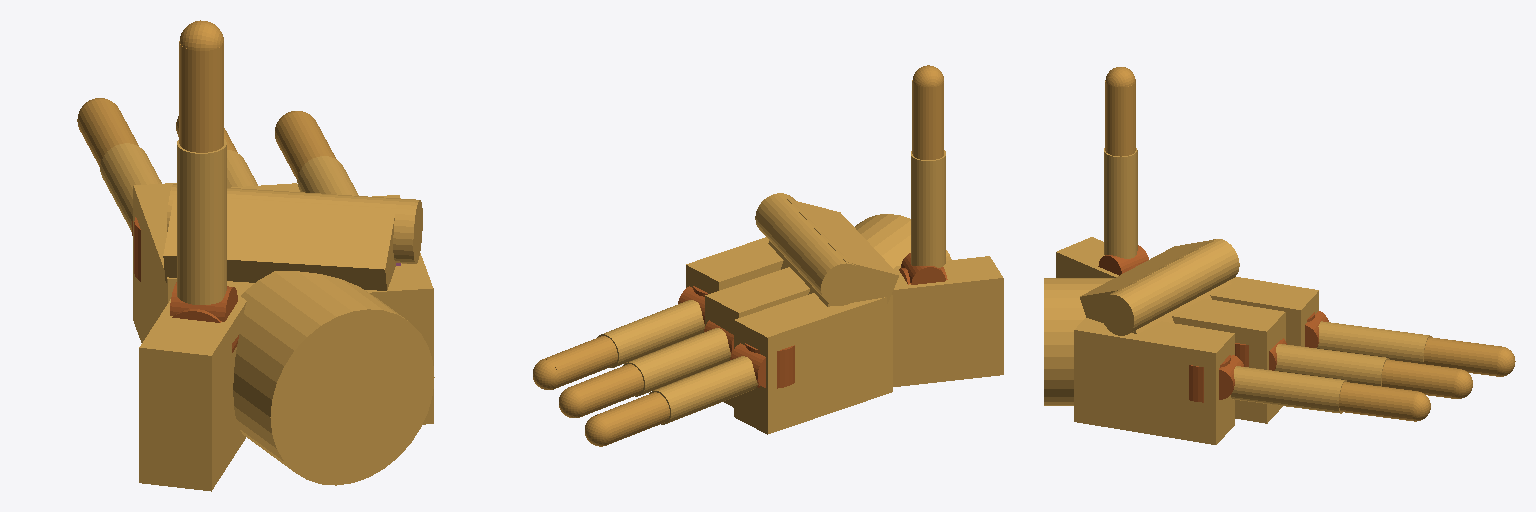
--- What the picture shows (computed from the rendered views, not written in the file) ---
The picture shows the robot from 3 angles, left to right: view 1: azimuth 30°, elevation 25°; view 2: azimuth 150°, elevation 25°; view 3: azimuth 270°, elevation 25°; orthographic projection.
Model sandia_hand_left with 34 links and 33 joints (12 revolute, 21 fixed), rooted at l_hand, posed all joints at 0.
Visible links, largest first — view 1: left_palm, left_f3_1, left_f3_2, left_f0_1, left_f0_2, left_f2_2, left_f2_1, left_f3_0, left_f1_1; view 2: left_palm, left_f3_1, left_f0_1, left_f2_1, left_f1_1, left_f3_2, left_f0_2, left_f1_2, left_f2_2, left_f0_0, left_f3_0; view 3: left_palm, left_f2_1, left_f3_1, left_f1_1, left_f0_1, left_f2_2, left_f3_2, left_f0_2, left_f1_2, left_f2_0, left_f3_0.
Link boxes in pixels (x1,y1,x2,y2): left_palm: (133,183,434,491); left_f3_1: (177,139,226,304); left_f3_2: (179,20,223,152); left_f0_1: (100,143,161,231); left_f0_2: (77,98,138,166); left_f2_2: (275,111,336,179); left_f2_1: (297,156,358,195); left_f3_0: (170,282,238,352); left_f1_1: (227,150,257,187); left_palm: (686,193,1003,434); left_f3_1: (911,150,945,267); left_f0_1: (649,356,757,424); left_f2_1: (597,300,704,367); left_f1_1: (623,328,730,396); left_f3_2: (912,65,943,159); left_f0_2: (585,392,669,446); left_f1_2: (559,364,643,417); left_f2_2: (533,336,617,389); left_f0_0: (730,343,794,388); left_f3_0: (899,253,947,284); left_palm: (1044,237,1318,444); left_f2_1: (1231,366,1346,413); left_f3_1: (1104,148,1137,258); left_f1_1: (1274,344,1389,386); left_f0_1: (1317,321,1431,363); left_f2_2: (1339,382,1430,421); left_f3_2: (1105,67,1135,156); left_f0_2: (1424,337,1515,376); left_f1_2: (1382,360,1472,398); left_f2_0: (1189,355,1243,402); left_f3_0: (1098,245,1148,275).
Bounding box of the posed robot: 0.1924 × 0.2782 × 0.196 m (x, y, z).
Geometry: primitives only (box / cylinder / sphere), no mesh files.

robot.urdf — sandia_hand_left:
<?xml version="1.0" ?>
<!-- copy from atlas_sandia_hand -->
<robot name="sandia_hand_left" xmlns:xacro="http://www.ros.org/wiki/xacro">

  <link name="left_palm">
    <origin rpy="0 0 0" xyz="0 0 0"/>
    <inertial>
      <mass value="1.303"/>
      <origin xyz="0 0 0"/>
      <!-- solid sphere with 5cm radius -->
      <inertia ixx="0.001303" ixy="0" ixz="0" iyy="0.001303" iyz="0" izz="0.001303"/>
    </inertial>
    <!-- begin simple shape approximation of palm -->
    <collision group="default">
      <origin rpy="0 1.57079632679 0.9" xyz="0.069 -0.016 0.038"/>
      <geometry>
        <cylinder length="0.100" radius="0.013"/>
      </geometry>
    </collision>
    <collision group="other">
      <origin rpy="-0.41 0 0.9" xyz="0.064 -0.008 0.021"/>
      <geometry>
        <box size="0.09 .035 .05"/>
      </geometry>
    </collision>
    <collision group="other">
      <origin rpy="0 1.57079632679 0" xyz="0.02 0 -0.005"/>
      <geometry>
        <cylinder length="0.05" radius="0.038"/>
      </geometry>
    </collision>
    <collision group="other">
      <origin rpy="0 0 -0.37" xyz="0.11 0.01 -0.005"/>
      <geometry>
        <box size="0.09 .03 .06"/>
      </geometry>
    </collision>
    <collision group="other">
      <origin rpy="0 0 -0.37" xyz="0.09 -0.02 -0.005"/>
      <geometry>
        <box size="0.09 .03 .06"/>
      </geometry>
    </collision>
    <collision group="other">
      <origin rpy="0 0 -0.37" xyz="0.060 -0.05 -0.005"/>
      <geometry>
        <box size="0.09 .03 .06"/>
      </geometry>
    </collision>
    <collision group="other">
      <origin rpy="0 0 -0.79" xyz="0.044 0.04 -0.005"/>
      <geometry>
        <box size="0.09 .03 .06"/>
      </geometry>
    </collision>
    <!--   end simple shape approximation of palm -->
    <!-- begin visual shape approximation of palm -->
    <visual>
      <origin rpy="0 1.57079632679 0.9" xyz="0.069 -0.016 0.038"/>
      <geometry>
        <cylinder length="0.100" radius="0.013"/>
      </geometry>
      <material name="left_sandia_hand_skin">
        <color rgba="0.835 0.655 0.345 1.0"/>
      </material>
    </visual>
    <visual>
      <origin rpy="-0.41 0 0.9" xyz="0.064 -0.008 0.021"/>
      <geometry>
        <box size="0.09 .035 .05"/>
      </geometry>
      <material name="left_sandia_hand_skin">
        <color rgba="0.835 0.655 0.345 1.0"/>
      </material>
    </visual>
    <visual>
      <origin rpy="0 1.57079632679 0" xyz="0.02 0 -0.005"/>
      <geometry>
        <cylinder length="0.05" radius="0.038"/>
      </geometry>
      <material name="left_sandia_hand_skin">
        <color rgba="0.835 0.655 0.345 1.0"/>
      </material>
    </visual>
    <visual>
      <origin rpy="0 0 -0.37" xyz="0.11 0.01 -0.005"/>
      <geometry>
        <box size="0.09 .03 .06"/>
      </geometry>
      <material name="left_sandia_hand_skin">
        <color rgba="0.835 0.655 0.345 1.0"/>
      </material>
    </visual>
    <visual>
      <origin rpy="0 0 -0.37" xyz="0.09 -0.02 -0.005"/>
      <geometry>
        <box size="0.09 .03 .06"/>
      </geometry>
      <material name="left_sandia_hand_skin">
        <color rgba="0.835 0.655 0.345 1.0"/>
      </material>
    </visual>
    <visual>
      <origin rpy="0 0 -0.37" xyz="0.060 -0.05 -0.005"/>
      <geometry>
        <box size="0.09 .03 .06"/>
      </geometry>
      <material name="left_sandia_hand_skin">
        <color rgba="0.835 0.655 0.345 1.0"/>
      </material>
    </visual>
    <visual>
      <origin rpy="0 0 -0.79" xyz="0.044 0.04 -0.005"/>
      <geometry>
        <box size="0.09 .03 .06"/>
      </geometry>
      <material name="left_sandia_hand_skin">
        <color rgba="0.835 0.655 0.345 1.0"/>
      </material>
    </visual>
    <!--   end visual shape approximation of palm -->
    <!-- begin collision mesh of f2 ->
      <collision group="default">
        <origin xyz="0 0 0" rpy="0 0 0"/>
        <geometry>
          <mesh filename="package://sandia_hand_description/meshes/palm.stl"/>
        </geometry>
      </collision>
      <!-   end collision mesh of f2 -->
    <!-- begin visual mesh of f2    ->
      <visual>
        <origin xyz="0 0 0" rpy="0 0 0"/>
        <geometry>
          <mesh filename="package://sandia_hand_description/meshes/palm.stl"/>
        </geometry>
        <material name="${side}_sandia_hand_skin">
          <color rgba="0.835 0.655 0.345 1.0"/>
        </material>
      </visual>
      <!-   end visual mesh of f2 -->
  </link>
  <link name="l_hand" />
  <joint name="left_sandia_hand_joint" type="fixed">
    <parent link="l_hand"/>
    <child link="left_palm"/>
    <origin xyz="0.00179  0.13516 0.01176" rpy="0 0  1.57079"/>
  </joint>
  <link name="left_f0_base">
    <origin rpy="0 0 0" xyz="0 0 0"/>
    <inertial>
      <!-- total mass is 2.303 kg, palm is about 1.303 kg, distribute the rest into _base -->
      <mass value="0.250"/>
      <!-- (2.303 - 1.303) / 4 -->
      <origin xyz="0 0 0"/>
      <!-- model as sphere with radius of 1cm -->
      <inertia ixx="0.00001" ixy="0" ixz="0" iyy="0.00001" iyz="0" izz="0.00001"/>
    </inertial>
  </link>
  <link name="left_f0_fixed_accel">
    <origin rpy="0 0 0" xyz="0 0 0"/>
    <inertial>
      <mass value="0.01"/>
      <origin xyz="0 0 0"/>
      <inertia ixx="0.000001" ixy="0" ixz="0" iyy="0.000001" iyz="0" izz="0.000001"/>
    </inertial>
  </link>
  <link name="left_f0_0">
    <origin rpy="0 0 0" xyz="0 0 0"/>
    <inertial>
      <mass value="0.106"/>
      <!-- F1 -->
      <origin xyz="0 0 0"/>
      <!-- solid cylinder -->
      <inertia ixx="0.000011925" ixy="0" ixz="0" iyy="0.00011505" iyz="0" izz="0.00011505"/>
    </inertial>
    <!-- begin simple shape approximation of f0 -->
    <collision group="default">
      <origin rpy="0 0 0" xyz="0 0 0.003"/>
      <geometry>
        <cylinder length="0.023" radius="0.015"/>
      </geometry>
    </collision>
    <collision group="other">
      <origin rpy="1.57079632679 0 0" xyz="0.011 0 0.003"/>
      <geometry>
        <cylinder length="0.023" radius="0.01"/>
      </geometry>
    </collision>
    <!--   end simple shape approximation of f0 -->
    <!-- begin visual shape approximation of f0 -->
    <visual>
      <origin rpy="0 0 0" xyz="0 0 0.003"/>
      <geometry>
        <cylinder length="0.023" radius="0.015"/>
      </geometry>
      <material name="left_sandia_hand_skin_suntan">
        <color rgba="0.7 0.4 0.2 1.0"/>
      </material>
    </visual>
    <visual>
      <origin rpy="1.57079632679 0 0" xyz="0.011 0 0.003"/>
      <geometry>
        <cylinder length="0.023" radius="0.01"/>
      </geometry>
      <material name="left_sandia_hand_skin_suntan">
        <color rgba="0.7 0.4 0.2 1.0"/>
      </material>
    </visual>
    <!--   end visual shape approximation of f0 -->
    <!-- begin collision mesh of f0 ->
      <collision group="default">
        <origin xyz="0 0 0" rpy="0 0 0"/>
        <geometry>
          <mesh filename="package://sandia_hand_description/meshes/f0.stl"/>
        </geometry>
      </collision>
      <!-   end collision mesh of f0 -->
    <!-- begin visual mesh of f0 ->
      <visual>
        <origin xyz="0 0 0" rpy="0 0 0"/>
        <geometry>
          <mesh filename="package://sandia_hand_description/meshes/f0.stl"/>
        </geometry>
        <material name="${side}_sandia_hand_skin_suntan">
          <color rgba="0.7 0.4 0.2 1.0"/>
        </material>
      </visual>
      <!-   end visual mesh of f0 -->
  </link>
  <link name="left_f0_1">
    <origin rpy="0 0 0" xyz="0 0 0"/>
    <inertial>
      <mass value="0.033"/>
      <!-- F2 -->
      <origin xyz="0 0 0"/>
      <!-- solid cylinder -->
      <inertia ixx="0.00000165" ixy="0" ixz="0" iyy="0.00001316975" iyz="0" izz="0.00001316975"/>
    </inertial>
    <!-- begin simple shape approximation of f1 -->
    <collision group="default">
      <origin rpy="0 1.57079632679 0" xyz="0.024 0 0"/>
      <geometry>
        <cylinder length="0.067" radius="0.01"/>
      </geometry>
    </collision>
    <!--   end simple shape approximation of f1 -->
    <!-- begin visual shape approximation of f1 -->
    <visual>
      <origin rpy="0 1.57079632679 0" xyz="0.024 0 0"/>
      <geometry>
        <cylinder length="0.067" radius="0.01"/>
      </geometry>
      <material name="left_sandia_hand_skin">
        <color rgba="0.835 0.655 0.345 1.0"/>
      </material>
    </visual>
    <!--   end visual shape approximation of f1 -->
    <!-- begin collision mesh of f1 ->
      <collision group="default">
        <origin xyz="0 0 0" rpy="0 0 0"/>
        <geometry>
          <mesh filename="package://sandia_hand_description/meshes/f1.stl"/>
        </geometry>
      </collision>
      <!-   end collision mesh of f1 -->
    <!-- begin visual mesh of f1 ->
      <visual>
        <origin xyz="0 0 0" rpy="0 0 0"/>
        <geometry>
          <mesh filename="package://sandia_hand_description/meshes/f1.stl"/>
        </geometry>
        <material name="${side}_sandia_hand_skin">
          <color rgba="0.835 0.655 0.345 1.0"/>
        </material>
      </visual>
      <!-   end visual mesh of f1 -->
  </link>
  <link name="left_f0_1_accel">
    <origin rpy="0 0 0" xyz="0 0 0"/>
    <inertial>
      <mass value="0.01"/>
      <origin xyz="0 0 0"/>
      <inertia ixx="0.000001" ixy="0" ixz="0" iyy="0.000001" iyz="0" izz="0.000001"/>
    </inertial>
  </link>
  <link name="left_f0_2">
    <origin rpy="0 0 0" xyz="0 0 0"/>
    <inertial>
      <mass value="0.033"/>
      <!-- F3 -->
      <origin xyz="0 0 0"/>
      <!-- solid cylinder -->
      <inertia ixx="0.0000013365" ixy="0" ixz="0" iyy="0.000009603" iyz="0" izz="0.000009603"/>
    </inertial>
    <!-- begin simple shape approximation of f2 -->
    <collision group="default">
      <origin rpy="0 1.57079632679 0" xyz="0.024 0 0"/>
      <geometry>
        <cylinder length="0.057" radius="0.009"/>
      </geometry>
    </collision>
    <collision group="other">
      <origin rpy="0 0 0" xyz="0.052 0 0"/>
      <geometry>
        <sphere radius="0.009"/>
      </geometry>
    </collision>
    <!--   end simple shape approximation of f2 -->
    <!-- begin visual shape approximation of f2 -->
    <visual>
      <origin rpy="0 1.57079632679 0" xyz="0.024 0 0"/>
      <geometry>
        <cylinder length="0.057" radius="0.009"/>
      </geometry>
      <material name="left_sandia_hand_skin_suntan">
        <color rgba="0.8 0.6 0.3 1.0"/>
      </material>
    </visual>
    <visual>
      <origin rpy="0 0 0" xyz="0.052 0 0"/>
      <geometry>
        <sphere radius="0.009"/>
      </geometry>
      <material name="left_sandia_hand_skin_suntan">
        <color rgba="0.8 0.6 0.3 1.0"/>
      </material>
    </visual>
    <!-- begin collision mesh of f2    ->
      <collision group="default">
        <origin xyz="0 0 0" rpy="0 0 0"/>
        <geometry>
          <mesh filename="package://sandia_hand_description/meshes/f2.stl"/>
        </geometry>
      </collision>
      <!-   end collision mesh of f2 -->
    <!-- begin visual mesh of f2    ->
      <visual>
        <origin xyz="0 0 0" rpy="0 0 0"/>
        <geometry>
          <mesh filename="package://sandia_hand_description/meshes/f2.stl"/>
        </geometry>
        <material name="${side}_sandia_hand_skin_suntan">
          <color rgba="0.8 0.6 0.3 1.0"/>
        </material>
      </visual>
      <!-   end visual mesh of f2 -->
  </link>
  <link name="left_f0_2_accel">
    <origin rpy="0 0 0" xyz="0 0 0"/>
    <inertial>
      <mass value="0.01"/>
      <origin xyz="0 0 0"/>
      <inertia ixx="0.000001" ixy="0" ixz="0" iyy="0.000001" iyz="0" izz="0.000001"/>
    </inertial>
  </link>
  <joint name="left_f0_base" type="fixed">
    <parent link="left_palm"/>
    <child link="left_f0_base"/>
    <origin rpy="0 0 -0.3" xyz="0.14 0.0 0"/>
  </joint>
  <joint name="left_f0_j0" type="revolute">
    <axis xyz="0 0 -1"/>
    <parent link="left_f0_base"/>
    <child link="left_f0_0"/>
    <limit effort="11" lower="-1.57079632679" upper="1.57079632679" velocity="24"/>
    <safety_controller k_position="1000.0" k_velocity="1000.0" soft_lower_limit="-11.57079" soft_upper_limit="11.57079"/>
    <dynamics damping="1.0"/>
    <origin rpy="0 0 0" xyz="0 0 0"/>
  </joint>
  <joint name="left_f0_j1" type="revolute">
    <axis xyz="0 0 1"/>
    <parent link="left_f0_0"/>
    <child link="left_f0_1"/>
    <limit effort="28" lower="-1.57079632679" upper="1.57079632679" velocity="24"/>
    <safety_controller k_position="1000.0" k_velocity="1000.0" soft_lower_limit="-11.57079" soft_upper_limit="11.57079"/>
    <dynamics damping="1.0"/>
    <origin rpy="1.57079632679 0 0" xyz="0.028 0 0"/>
  </joint>
  <joint name="left_f0_j2" type="revolute">
    <axis xyz="0 0 1"/>
    <parent link="left_f0_1"/>
    <child link="left_f0_2"/>
    <origin rpy="0 0 0" xyz="0.05 0 0"/>
    <safety_controller k_position="1000.0" k_velocity="1000.0" soft_lower_limit="-11.57079" soft_upper_limit="11.57079"/>
    <dynamics damping="1.0"/>
    <limit effort="28" lower="-1.57079632679" upper="1.57079632679" velocity="24"/>
  </joint>
  <joint name="left_f0_fixed_accel" type="fixed">
    <parent link="left_f0_base"/>
    <child link="left_f0_fixed_accel"/>
    <origin rpy="0 0 0" xyz="-0.05 0 0"/>
  </joint>
  <joint name="left_f0_1_accel" type="fixed">
    <parent link="left_f0_1"/>
    <child link="left_f0_1_accel"/>
    <origin rpy="-1.57079632679 0 0" xyz="0.03 0 0"/>
  </joint>
  <joint name="left_f0_2_accel" type="fixed">
    <parent link="left_f0_2"/>
    <child link="left_f0_2_accel"/>
    <origin rpy="-1.57079632679 0 0" xyz="0.04 0 0"/>
  </joint>
  <transmission name="left_f0_j0" type="pr2_mechanism_model/SimpleTransmission">
    <joint name="left_f0_j0"/>
    <actuator name="left_f0_j0_motor"/>
    <mechanicalReduction>1</mechanicalReduction>
  </transmission>
  <transmission name="left_f0_j1" type="pr2_mechanism_model/SimpleTransmission">
    <joint name="left_f0_j1"/>
    <actuator name="left_f0_j1_motor"/>
    <mechanicalReduction>1</mechanicalReduction>
  </transmission>
  <transmission name="left_f0_j2" type="pr2_mechanism_model/SimpleTransmission">
    <joint name="left_f0_j2"/>
    <actuator name="left_f0_j2_motor"/>
    <mechanicalReduction>1</mechanicalReduction>
  </transmission>
  <gazebo reference="left_f0_base">
    <mu1>1.1</mu1>
    <mu2>1.1</mu2>
    <kp>1000000.0</kp>
    <kd>10.0</kd>
    <maxVel>0.1</maxVel>
    <minDepth>0.00</minDepth>
    <maxContacts>1</maxContacts>
    <material>Gazebo/FlatBlack</material>
  </gazebo>
  <gazebo reference="left_f0_0">
    <mu1>1.1</mu1>
    <mu2>1.1</mu2>
    <kp>1000000.0</kp>
    <kd>10.0</kd>
    <maxVel>0.1</maxVel>
    <minDepth>0.00</minDepth>
    <maxContacts>1</maxContacts>
    <material>Gazebo/FlatBlack</material>
  </gazebo>
  <gazebo reference="left_f0_1">
    <mu1>1.1</mu1>
    <mu2>1.1</mu2>
    <kp>1000000.0</kp>
    <kd>10.0</kd>
    <maxVel>0.1</maxVel>
    <minDepth>0.00</minDepth>
    <maxContacts>1</maxContacts>
    <material>Gazebo/FlatBlack</material>
  </gazebo>
  <gazebo reference="left_f0_2">
    <mu1>1.1</mu1>
    <mu2>1.1</mu2>
    <kp>1000000.0</kp>
    <kd>10.0</kd>
    <maxVel>0.1</maxVel>
    <minDepth>0.00</minDepth>
    <maxContacts>1</maxContacts>
    <material>Gazebo/FlatBlack</material>
  </gazebo>
  <gazebo reference="left_f0_j0">
    <cfmDamping>1</cfmDamping>
  </gazebo>
  <gazebo reference="left_f0_j1">
    <cfmDamping>1</cfmDamping>
  </gazebo>
  <gazebo reference="left_f0_j2">
    <cfmDamping>1</cfmDamping>
  </gazebo>
  <link name="left_f1_base">
    <origin rpy="0 0 0" xyz="0 0 0"/>
    <inertial>
      <!-- total mass is 2.303 kg, palm is about 1.303 kg, distribute the rest into _base -->
      <mass value="0.250"/>
      <!-- (2.303 - 1.303) / 4 -->
      <origin xyz="0 0 0"/>
      <!-- model as sphere with radius of 1cm -->
      <inertia ixx="0.00001" ixy="0" ixz="0" iyy="0.00001" iyz="0" izz="0.00001"/>
    </inertial>
  </link>
  <link name="left_f1_fixed_accel">
    <origin rpy="0 0 0" xyz="0 0 0"/>
    <inertial>
      <mass value="0.01"/>
      <origin xyz="0 0 0"/>
      <inertia ixx="0.000001" ixy="0" ixz="0" iyy="0.000001" iyz="0" izz="0.000001"/>
    </inertial>
  </link>
  <link name="left_f1_0">
    <origin rpy="0 0 0" xyz="0 0 0"/>
    <inertial>
      <mass value="0.106"/>
      <!-- F1 -->
      <origin xyz="0 0 0"/>
      <!-- solid cylinder -->
      <inertia ixx="0.000011925" ixy="0" ixz="0" iyy="0.00011505" iyz="0" izz="0.00011505"/>
    </inertial>
    <!-- begin simple shape approximation of f0 -->
    <collision group="default">
      <origin rpy="0 0 0" xyz="0 0 0.003"/>
      <geometry>
        <cylinder length="0.023" radius="0.015"/>
      </geometry>
    </collision>
    <collision group="other">
      <origin rpy="1.57079632679 0 0" xyz="0.011 0 0.003"/>
      <geometry>
        <cylinder length="0.023" radius="0.01"/>
      </geometry>
    </collision>
    <!--   end simple shape approximation of f0 -->
    <!-- begin visual shape approximation of f0 -->
    <visual>
      <origin rpy="0 0 0" xyz="0 0 0.003"/>
      <geometry>
        <cylinder length="0.023" radius="0.015"/>
      </geometry>
      <material name="left_sandia_hand_skin_suntan">
        <color rgba="0.7 0.4 0.2 1.0"/>
      </material>
    </visual>
    <visual>
      <origin rpy="1.57079632679 0 0" xyz="0.011 0 0.003"/>
      <geometry>
        <cylinder length="0.023" radius="0.01"/>
      </geometry>
      <material name="left_sandia_hand_skin_suntan">
        <color rgba="0.7 0.4 0.2 1.0"/>
      </material>
    </visual>
    <!--   end visual shape approximation of f0 -->
    <!-- begin collision mesh of f0 ->
      <collision group="default">
        <origin xyz="0 0 0" rpy="0 0 0"/>
        <geometry>
          <mesh filename="package://sandia_hand_description/meshes/f0.stl"/>
        </geometry>
      </collision>
      <!-   end collision mesh of f0 -->
    <!-- begin visual mesh of f0 ->
      <visual>
        <origin xyz="0 0 0" rpy="0 0 0"/>
        <geometry>
          <mesh filename="package://sandia_hand_description/meshes/f0.stl"/>
        </geometry>
        <material name="${side}_sandia_hand_skin_suntan">
          <color rgba="0.7 0.4 0.2 1.0"/>
        </material>
      </visual>
      <!-   end visual mesh of f0 -->
  </link>
  <link name="left_f1_1">
    <origin rpy="0 0 0" xyz="0 0 0"/>
    <inertial>
      <mass value="0.033"/>
      <!-- F2 -->
      <origin xyz="0 0 0"/>
      <!-- solid cylinder -->
      <inertia ixx="0.00000165" ixy="0" ixz="0" iyy="0.00001316975" iyz="0" izz="0.00001316975"/>
    </inertial>
    <!-- begin simple shape approximation of f1 -->
    <collision group="default">
      <origin rpy="0 1.57079632679 0" xyz="0.024 0 0"/>
      <geometry>
        <cylinder length="0.067" radius="0.01"/>
      </geometry>
    </collision>
    <!--   end simple shape approximation of f1 -->
    <!-- begin visual shape approximation of f1 -->
    <visual>
      <origin rpy="0 1.57079632679 0" xyz="0.024 0 0"/>
      <geometry>
        <cylinder length="0.067" radius="0.01"/>
      </geometry>
      <material name="left_sandia_hand_skin">
        <color rgba="0.835 0.655 0.345 1.0"/>
      </material>
    </visual>
    <!--   end visual shape approximation of f1 -->
    <!-- begin collision mesh of f1 ->
      <collision group="default">
        <origin xyz="0 0 0" rpy="0 0 0"/>
        <geometry>
          <mesh filename="package://sandia_hand_description/meshes/f1.stl"/>
        </geometry>
      </collision>
      <!-   end collision mesh of f1 -->
    <!-- begin visual mesh of f1 ->
      <visual>
        <origin xyz="0 0 0" rpy="0 0 0"/>
        <geometry>
          <mesh filename="package://sandia_hand_description/meshes/f1.stl"/>
        </geometry>
        <material name="${side}_sandia_hand_skin">
          <color rgba="0.835 0.655 0.345 1.0"/>
        </material>
      </visual>
      <!-   end visual mesh of f1 -->
  </link>
  <link name="left_f1_1_accel">
    <origin rpy="0 0 0" xyz="0 0 0"/>
    <inertial>
      <mass value="0.01"/>
      <origin xyz="0 0 0"/>
      <inertia ixx="0.000001" ixy="0" ixz="0" iyy="0.000001" iyz="0" izz="0.000001"/>
    </inertial>
  </link>
  <link name="left_f1_2">
    <origin rpy="0 0 0" xyz="0 0 0"/>
    <inertial>
      <mass value="0.033"/>
      <!-- F3 -->
      <origin xyz="0 0 0"/>
      <!-- solid cylinder -->
      <inertia ixx="0.0000013365" ixy="0" ixz="0" iyy="0.000009603" iyz="0" izz="0.000009603"/>
    </inertial>
    <!-- begin simple shape approximation of f2 -->
    <collision group="default">
      <origin rpy="0 1.57079632679 0" xyz="0.024 0 0"/>
      <geometry>
        <cylinder length="0.057" radius="0.009"/>
      </geometry>
    </collision>
    <collision group="other">
      <origin rpy="0 0 0" xyz="0.052 0 0"/>
      <geometry>
        <sphere radius="0.009"/>
      </geometry>
    </collision>
    <!--   end simple shape approximation of f2 -->
    <!-- begin visual shape approximation of f2 -->
    <visual>
      <origin rpy="0 1.57079632679 0" xyz="0.024 0 0"/>
      <geometry>
        <cylinder length="0.057" radius="0.009"/>
      </geometry>
      <material name="left_sandia_hand_skin_suntan">
        <color rgba="0.8 0.6 0.3 1.0"/>
      </material>
    </visual>
    <visual>
      <origin rpy="0 0 0" xyz="0.052 0 0"/>
      <geometry>
        <sphere radius="0.009"/>
      </geometry>
      <material name="left_sandia_hand_skin_suntan">
        <color rgba="0.8 0.6 0.3 1.0"/>
      </material>
    </visual>
    <!-- begin collision mesh of f2    ->
      <collision group="default">
        <origin xyz="0 0 0" rpy="0 0 0"/>
        <geometry>
          <mesh filename="package://sandia_hand_description/meshes/f2.stl"/>
        </geometry>
      </collision>
      <!-   end collision mesh of f2 -->
    <!-- begin visual mesh of f2    ->
      <visual>
        <origin xyz="0 0 0" rpy="0 0 0"/>
        <geometry>
          <mesh filename="package://sandia_hand_description/meshes/f2.stl"/>
        </geometry>
        <material name="${side}_sandia_hand_skin_suntan">
          <color rgba="0.8 0.6 0.3 1.0"/>
        </material>
      </visual>
      <!-   end visual mesh of f2 -->
  </link>
  <link name="left_f1_2_accel">
    <origin rpy="0 0 0" xyz="0 0 0"/>
    <inertial>
      <mass value="0.01"/>
      <origin xyz="0 0 0"/>
      <inertia ixx="0.000001" ixy="0" ixz="0" iyy="0.000001" iyz="0" izz="0.000001"/>
    </inertial>
  </link>
  <joint name="left_f1_base" type="fixed">
    <parent link="left_palm"/>
    <child link="left_f1_base"/>
    <origin rpy="0 0 -0.3" xyz="0.115 -0.03122 0"/>
  </joint>
  <joint name="left_f1_j0" type="revolute">
    <axis xyz="0 0 -1"/>
    <parent link="left_f1_base"/>
    <child link="left_f1_0"/>
    <limit effort="11" lower="-1.57079632679" upper="1.57079632679" velocity="24"/>
    <safety_controller k_position="1000.0" k_velocity="1000.0" soft_lower_limit="-11.57079" soft_upper_limit="11.57079"/>
    <dynamics damping="1.0"/>
    <origin rpy="0 0 0" xyz="0 0 0"/>
  </joint>
  <joint name="left_f1_j1" type="revolute">
    <axis xyz="0 0 1"/>
    <parent link="left_f1_0"/>
    <child link="left_f1_1"/>
    <limit effort="28" lower="-1.57079632679" upper="1.57079632679" velocity="24"/>
    <safety_controller k_position="1000.0" k_velocity="1000.0" soft_lower_limit="-11.57079" soft_upper_limit="11.57079"/>
    <dynamics damping="1.0"/>
    <origin rpy="1.57079632679 0 0" xyz="0.028 0 0"/>
  </joint>
  <joint name="left_f1_j2" type="revolute">
    <axis xyz="0 0 1"/>
    <parent link="left_f1_1"/>
    <child link="left_f1_2"/>
    <origin rpy="0 0 0" xyz="0.05 0 0"/>
    <safety_controller k_position="1000.0" k_velocity="1000.0" soft_lower_limit="-11.57079" soft_upper_limit="11.57079"/>
    <dynamics damping="1.0"/>
    <limit effort="28" lower="-1.57079632679" upper="1.57079632679" velocity="24"/>
  </joint>
  <joint name="left_f1_fixed_accel" type="fixed">
    <parent link="left_f1_base"/>
    <child link="left_f1_fixed_accel"/>
    <origin rpy="0 0 0" xyz="-0.05 0 0"/>
  </joint>
  <joint name="left_f1_1_accel" type="fixed">
    <parent link="left_f1_1"/>
    <child link="left_f1_1_accel"/>
    <origin rpy="-1.57079632679 0 0" xyz="0.03 0 0"/>
  </joint>
  <joint name="left_f1_2_accel" type="fixed">
    <parent link="left_f1_2"/>
    <child link="left_f1_2_accel"/>
    <origin rpy="-1.57079632679 0 0" xyz="0.04 0 0"/>
  </joint>
  <transmission name="left_f1_j0" type="pr2_mechanism_model/SimpleTransmission">
    <joint name="left_f1_j0"/>
    <actuator name="left_f1_j0_motor"/>
    <mechanicalReduction>1</mechanicalReduction>
  </transmission>
  <transmission name="left_f1_j1" type="pr2_mechanism_model/SimpleTransmission">
    <joint name="left_f1_j1"/>
    <actuator name="left_f1_j1_motor"/>
    <mechanicalReduction>1</mechanicalReduction>
  </transmission>
  <transmission name="left_f1_j2" type="pr2_mechanism_model/SimpleTransmission">
    <joint name="left_f1_j2"/>
    <actuator name="left_f1_j2_motor"/>
    <mechanicalReduction>1</mechanicalReduction>
  </transmission>
  <gazebo reference="left_f1_base">
    <mu1>1.1</mu1>
    <mu2>1.1</mu2>
    <kp>1000000.0</kp>
    <kd>10.0</kd>
    <maxVel>0.1</maxVel>
    <minDepth>0.00</minDepth>
    <maxContacts>1</maxContacts>
    <material>Gazebo/FlatBlack</material>
  </gazebo>
  <gazebo reference="left_f1_0">
    <mu1>1.1</mu1>
    <mu2>1.1</mu2>
    <kp>1000000.0</kp>
    <kd>10.0</kd>
    <maxVel>0.1</maxVel>
    <minDepth>0.00</minDepth>
    <maxContacts>1</maxContacts>
    <material>Gazebo/FlatBlack</material>
  </gazebo>
  <gazebo reference="left_f1_1">
    <mu1>1.1</mu1>
    <mu2>1.1</mu2>
    <kp>1000000.0</kp>
    <kd>10.0</kd>
    <maxVel>0.1</maxVel>
    <minDepth>0.00</minDepth>
    <maxContacts>1</maxContacts>
    <material>Gazebo/FlatBlack</material>
  </gazebo>
  <gazebo reference="left_f1_2">
    <mu1>1.1</mu1>
    <mu2>1.1</mu2>
    <kp>1000000.0</kp>
    <kd>10.0</kd>
    <maxVel>0.1</maxVel>
    <minDepth>0.00</minDepth>
    <maxContacts>1</maxContacts>
    <material>Gazebo/FlatBlack</material>
  </gazebo>
  <gazebo reference="left_f1_j0">
    <cfmDamping>1</cfmDamping>
  </gazebo>
  <gazebo reference="left_f1_j1">
    <cfmDamping>1</cfmDamping>
  </gazebo>
  <gazebo reference="left_f1_j2">
    <cfmDamping>1</cfmDamping>
  </gazebo>
  <link name="left_f2_base">
    <origin rpy="0 0 0" xyz="0 0 0"/>
    <inertial>
      <!-- total mass is 2.303 kg, palm is about 1.303 kg, distribute the rest into _base -->
      <mass value="0.250"/>
      <!-- (2.303 - 1.303) / 4 -->
      <origin xyz="0 0 0"/>
      <!-- model as sphere with radius of 1cm -->
      <inertia ixx="0.00001" ixy="0" ixz="0" iyy="0.00001" iyz="0" izz="0.00001"/>
    </inertial>
  </link>
  <link name="left_f2_fixed_accel">
    <origin rpy="0 0 0" xyz="0 0 0"/>
    <inertial>
      <mass value="0.01"/>
      <origin xyz="0 0 0"/>
      <inertia ixx="0.000001" ixy="0" ixz="0" iyy="0.000001" iyz="0" izz="0.000001"/>
    </inertial>
  </link>
  <link name="left_f2_0">
    <origin rpy="0 0 0" xyz="0 0 0"/>
    <inertial>
      <mass value="0.106"/>
      <!-- F1 -->
      <origin xyz="0 0 0"/>
      <!-- solid cylinder -->
      <inertia ixx="0.000011925" ixy="0" ixz="0" iyy="0.00011505" iyz="0" izz="0.00011505"/>
    </inertial>
    <!-- begin simple shape approximation of f0 -->
    <collision group="default">
      <origin rpy="0 0 0" xyz="0 0 0.003"/>
      <geometry>
        <cylinder length="0.023" radius="0.015"/>
      </geometry>
    </collision>
    <collision group="other">
      <origin rpy="1.57079632679 0 0" xyz="0.011 0 0.003"/>
      <geometry>
        <cylinder length="0.023" radius="0.01"/>
      </geometry>
    </collision>
    <!--   end simple shape approximation of f0 -->
    <!-- begin visual shape approximation of f0 -->
    <visual>
      <origin rpy="0 0 0" xyz="0 0 0.003"/>
      <geometry>
        <cylinder length="0.023" radius="0.015"/>
      </geometry>
      <material name="left_sandia_hand_skin_suntan">
        <color rgba="0.7 0.4 0.2 1.0"/>
      </material>
    </visual>
    <visual>
      <origin rpy="1.57079632679 0 0" xyz="0.011 0 0.003"/>
      <geometry>
        <cylinder length="0.023" radius="0.01"/>
      </geometry>
      <material name="left_sandia_hand_skin_suntan">
        <color rgba="0.7 0.4 0.2 1.0"/>
      </material>
    </visual>
    <!--   end visual shape approximation of f0 -->
    <!-- begin collision mesh of f0 ->
      <collision group="default">
        <origin xyz="0 0 0" rpy="0 0 0"/>
        <geometry>
          <mesh filename="package://sandia_hand_description/meshes/f0.stl"/>
        </geometry>
      </collision>
      <!-   end collision mesh of f0 -->
    <!-- begin visual mesh of f0 ->
      <visual>
        <origin xyz="0 0 0" rpy="0 0 0"/>
        <geometry>
          <mesh filename="package://sandia_hand_description/meshes/f0.stl"/>
        </geometry>
        <material name="${side}_sandia_hand_skin_suntan">
          <color rgba="0.7 0.4 0.2 1.0"/>
        </material>
      </visual>
      <!-   end visual mesh of f0 -->
  </link>
  <link name="left_f2_1">
    <origin rpy="0 0 0" xyz="0 0 0"/>
    <inertial>
      <mass value="0.033"/>
      <!-- F2 -->
      <origin xyz="0 0 0"/>
      <!-- solid cylinder -->
      <inertia ixx="0.00000165" ixy="0" ixz="0" iyy="0.00001316975" iyz="0" izz="0.00001316975"/>
    </inertial>
    <!-- begin simple shape approximation of f1 -->
    <collision group="default">
      <origin rpy="0 1.57079632679 0" xyz="0.024 0 0"/>
      <geometry>
        <cylinder length="0.067" radius="0.01"/>
      </geometry>
    </collision>
    <!--   end simple shape approximation of f1 -->
    <!-- begin visual shape approximation of f1 -->
    <visual>
      <origin rpy="0 1.57079632679 0" xyz="0.024 0 0"/>
      <geometry>
        <cylinder length="0.067" radius="0.01"/>
      </geometry>
      <material name="left_sandia_hand_skin">
        <color rgba="0.835 0.655 0.345 1.0"/>
      </material>
    </visual>
    <!--   end visual shape approximation of f1 -->
    <!-- begin collision mesh of f1 ->
      <collision group="default">
        <origin xyz="0 0 0" rpy="0 0 0"/>
        <geometry>
          <mesh filename="package://sandia_hand_description/meshes/f1.stl"/>
        </geometry>
      </collision>
      <!-   end collision mesh of f1 -->
    <!-- begin visual mesh of f1 ->
      <visual>
        <origin xyz="0 0 0" rpy="0 0 0"/>
        <geometry>
          <mesh filename="package://sandia_hand_description/meshes/f1.stl"/>
        </geometry>
        <material name="${side}_sandia_hand_skin">
          <color rgba="0.835 0.655 0.345 1.0"/>
        </material>
      </visual>
      <!-   end visual mesh of f1 -->
  </link>
  <link name="left_f2_1_accel">
    <origin rpy="0 0 0" xyz="0 0 0"/>
    <inertial>
      <mass value="0.01"/>
      <origin xyz="0 0 0"/>
      <inertia ixx="0.000001" ixy="0" ixz="0" iyy="0.000001" iyz="0" izz="0.000001"/>
    </inertial>
  </link>
  <link name="left_f2_2">
    <origin rpy="0 0 0" xyz="0 0 0"/>
    <inertial>
      <mass value="0.033"/>
      <!-- F3 -->
      <origin xyz="0 0 0"/>
      <!-- solid cylinder -->
      <inertia ixx="0.0000013365" ixy="0" ixz="0" iyy="0.000009603" iyz="0" izz="0.000009603"/>
    </inertial>
    <!-- begin simple shape approximation of f2 -->
    <collision group="default">
      <origin rpy="0 1.57079632679 0" xyz="0.024 0 0"/>
      <geometry>
        <cylinder length="0.057" radius="0.009"/>
      </geometry>
    </collision>
    <collision group="other">
      <origin rpy="0 0 0" xyz="0.052 0 0"/>
      <geometry>
        <sphere radius="0.009"/>
      </geometry>
    </collision>
    <!--   end simple shape approximation of f2 -->
    <!-- begin visual shape approximation of f2 -->
    <visual>
      <origin rpy="0 1.57079632679 0" xyz="0.024 0 0"/>
      <geometry>
        <cylinder length="0.057" radius="0.009"/>
      </geometry>
      <material name="left_sandia_hand_skin_suntan">
        <color rgba="0.8 0.6 0.3 1.0"/>
      </material>
    </visual>
    <visual>
      <origin rpy="0 0 0" xyz="0.052 0 0"/>
      <geometry>
        <sphere radius="0.009"/>
      </geometry>
      <material name="left_sandia_hand_skin_suntan">
        <color rgba="0.8 0.6 0.3 1.0"/>
      </material>
    </visual>
    <!-- begin collision mesh of f2    ->
      <collision group="default">
        <origin xyz="0 0 0" rpy="0 0 0"/>
        <geometry>
          <mesh filename="package://sandia_hand_description/meshes/f2.stl"/>
        </geometry>
      </collision>
      <!-   end collision mesh of f2 -->
    <!-- begin visual mesh of f2    ->
      <visual>
        <origin xyz="0 0 0" rpy="0 0 0"/>
        <geometry>
          <mesh filename="package://sandia_hand_description/meshes/f2.stl"/>
        </geometry>
        <material name="${side}_sandia_hand_skin_suntan">
          <color rgba="0.8 0.6 0.3 1.0"/>
        </material>
      </visual>
      <!-   end visual mesh of f2 -->
  </link>
  <link name="left_f2_2_accel">
    <origin rpy="0 0 0" xyz="0 0 0"/>
    <inertial>
      <mass value="0.01"/>
      <origin xyz="0 0 0"/>
      <inertia ixx="0.000001" ixy="0" ixz="0" iyy="0.000001" iyz="0" izz="0.000001"/>
    </inertial>
  </link>
  <joint name="left_f2_base" type="fixed">
    <parent link="left_palm"/>
    <child link="left_f2_base"/>
    <origin rpy="0 0 -0.3" xyz="0.09 -0.06245 0"/>
  </joint>
  <joint name="left_f2_j0" type="revolute">
    <axis xyz="0 0 -1"/>
    <parent link="left_f2_base"/>
    <child link="left_f2_0"/>
    <limit effort="11" lower="-1.57079632679" upper="1.57079632679" velocity="24"/>
    <safety_controller k_position="1000.0" k_velocity="1000.0" soft_lower_limit="-11.57079" soft_upper_limit="11.57079"/>
    <dynamics damping="1.0"/>
    <origin rpy="0 0 0" xyz="0 0 0"/>
  </joint>
  <joint name="left_f2_j1" type="revolute">
    <axis xyz="0 0 1"/>
    <parent link="left_f2_0"/>
    <child link="left_f2_1"/>
    <limit effort="28" lower="-1.57079632679" upper="1.57079632679" velocity="24"/>
    <safety_controller k_position="1000.0" k_velocity="1000.0" soft_lower_limit="-11.57079" soft_upper_limit="11.57079"/>
    <dynamics damping="1.0"/>
    <origin rpy="1.57079632679 0 0" xyz="0.028 0 0"/>
  </joint>
  <joint name="left_f2_j2" type="revolute">
    <axis xyz="0 0 1"/>
    <parent link="left_f2_1"/>
    <child link="left_f2_2"/>
    <origin rpy="0 0 0" xyz="0.05 0 0"/>
    <safety_controller k_position="1000.0" k_velocity="1000.0" soft_lower_limit="-11.57079" soft_upper_limit="11.57079"/>
    <dynamics damping="1.0"/>
    <limit effort="28" lower="-1.57079632679" upper="1.57079632679" velocity="24"/>
  </joint>
  <joint name="left_f2_fixed_accel" type="fixed">
    <parent link="left_f2_base"/>
    <child link="left_f2_fixed_accel"/>
    <origin rpy="0 0 0" xyz="-0.05 0 0"/>
  </joint>
  <joint name="left_f2_1_accel" type="fixed">
    <parent link="left_f2_1"/>
    <child link="left_f2_1_accel"/>
    <origin rpy="-1.57079632679 0 0" xyz="0.03 0 0"/>
  </joint>
  <joint name="left_f2_2_accel" type="fixed">
    <parent link="left_f2_2"/>
    <child link="left_f2_2_accel"/>
    <origin rpy="-1.57079632679 0 0" xyz="0.04 0 0"/>
  </joint>
  <transmission name="left_f2_j0" type="pr2_mechanism_model/SimpleTransmission">
    <joint name="left_f2_j0"/>
    <actuator name="left_f2_j0_motor"/>
    <mechanicalReduction>1</mechanicalReduction>
  </transmission>
  <transmission name="left_f2_j1" type="pr2_mechanism_model/SimpleTransmission">
    <joint name="left_f2_j1"/>
    <actuator name="left_f2_j1_motor"/>
    <mechanicalReduction>1</mechanicalReduction>
  </transmission>
  <transmission name="left_f2_j2" type="pr2_mechanism_model/SimpleTransmission">
    <joint name="left_f2_j2"/>
    <actuator name="left_f2_j2_motor"/>
    <mechanicalReduction>1</mechanicalReduction>
  </transmission>
  <gazebo reference="left_f2_base">
    <mu1>1.1</mu1>
    <mu2>1.1</mu2>
    <kp>1000000.0</kp>
    <kd>10.0</kd>
    <maxVel>0.1</maxVel>
    <minDepth>0.00</minDepth>
    <maxContacts>1</maxContacts>
    <material>Gazebo/FlatBlack</material>
  </gazebo>
  <gazebo reference="left_f2_0">
    <mu1>1.1</mu1>
    <mu2>1.1</mu2>
    <kp>1000000.0</kp>
    <kd>10.0</kd>
    <maxVel>0.1</maxVel>
    <minDepth>0.00</minDepth>
    <maxContacts>1</maxContacts>
    <material>Gazebo/FlatBlack</material>
  </gazebo>
  <gazebo reference="left_f2_1">
    <mu1>1.1</mu1>
    <mu2>1.1</mu2>
    <kp>1000000.0</kp>
    <kd>10.0</kd>
    <maxVel>0.1</maxVel>
    <minDepth>0.00</minDepth>
    <maxContacts>1</maxContacts>
    <material>Gazebo/FlatBlack</material>
  </gazebo>
  <gazebo reference="left_f2_2">
    <mu1>1.1</mu1>
    <mu2>1.1</mu2>
    <kp>1000000.0</kp>
    <kd>10.0</kd>
    <maxVel>0.1</maxVel>
    <minDepth>0.00</minDepth>
    <maxContacts>1</maxContacts>
    <material>Gazebo/FlatBlack</material>
  </gazebo>
  <gazebo reference="left_f2_j0">
    <cfmDamping>1</cfmDamping>
  </gazebo>
  <gazebo reference="left_f2_j1">
    <cfmDamping>1</cfmDamping>
  </gazebo>
  <gazebo reference="left_f2_j2">
    <cfmDamping>1</cfmDamping>
  </gazebo>
  <link name="left_f3_base">
    <origin rpy="0 0 0" xyz="0 0 0"/>
    <inertial>
      <!-- total mass is 2.303 kg, palm is about 1.303 kg, distribute the rest into _base -->
      <mass value="0.250"/>
      <!-- (2.303 - 1.303) / 4 -->
      <origin xyz="0 0 0"/>
      <!-- model as sphere with radius of 1cm -->
      <inertia ixx="0.00001" ixy="0" ixz="0" iyy="0.00001" iyz="0" izz="0.00001"/>
    </inertial>
  </link>
  <link name="left_f3_fixed_accel">
    <origin rpy="0 0 0" xyz="0 0 0"/>
    <inertial>
      <mass value="0.01"/>
      <origin xyz="0 0 0"/>
      <inertia ixx="0.000001" ixy="0" ixz="0" iyy="0.000001" iyz="0" izz="0.000001"/>
    </inertial>
  </link>
  <link name="left_f3_0">
    <origin rpy="0 0 0" xyz="0 0 0"/>
    <inertial>
      <mass value="0.106"/>
      <!-- F1 -->
      <origin xyz="0 0 0"/>
      <!-- solid cylinder -->
      <inertia ixx="0.000011925" ixy="0" ixz="0" iyy="0.00011505" iyz="0" izz="0.00011505"/>
    </inertial>
    <!-- begin simple shape approximation of f0 -->
    <collision group="default">
      <origin rpy="0 0 0" xyz="0 0 0.003"/>
      <geometry>
        <cylinder length="0.023" radius="0.015"/>
      </geometry>
    </collision>
    <collision group="other">
      <origin rpy="1.57079632679 0 0" xyz="0.011 0 0.003"/>
      <geometry>
        <cylinder length="0.023" radius="0.01"/>
      </geometry>
    </collision>
    <!--   end simple shape approximation of f0 -->
    <!-- begin visual shape approximation of f0 -->
    <visual>
      <origin rpy="0 0 0" xyz="0 0 0.003"/>
      <geometry>
        <cylinder length="0.023" radius="0.015"/>
      </geometry>
      <material name="left_sandia_hand_skin_suntan">
        <color rgba="0.7 0.4 0.2 1.0"/>
      </material>
    </visual>
    <visual>
      <origin rpy="1.57079632679 0 0" xyz="0.011 0 0.003"/>
      <geometry>
        <cylinder length="0.023" radius="0.01"/>
      </geometry>
      <material name="left_sandia_hand_skin_suntan">
        <color rgba="0.7 0.4 0.2 1.0"/>
      </material>
    </visual>
    <!--   end visual shape approximation of f0 -->
    <!-- begin collision mesh of f0 ->
      <collision group="default">
        <origin xyz="0 0 0" rpy="0 0 0"/>
        <geometry>
          <mesh filename="package://sandia_hand_description/meshes/f0.stl"/>
        </geometry>
      </collision>
      <!-   end collision mesh of f0 -->
    <!-- begin visual mesh of f0 ->
      <visual>
        <origin xyz="0 0 0" rpy="0 0 0"/>
        <geometry>
          <mesh filename="package://sandia_hand_description/meshes/f0.stl"/>
        </geometry>
        <material name="${side}_sandia_hand_skin_suntan">
          <color rgba="0.7 0.4 0.2 1.0"/>
        </material>
      </visual>
      <!-   end visual mesh of f0 -->
  </link>
  <link name="left_f3_1">
    <origin rpy="0 0 0" xyz="0 0 0"/>
    <inertial>
      <mass value="0.033"/>
      <!-- F2 -->
      <origin xyz="0 0 0"/>
      <!-- solid cylinder -->
      <inertia ixx="0.00000165" ixy="0" ixz="0" iyy="0.00001316975" iyz="0" izz="0.00001316975"/>
    </inertial>
    <!-- begin simple shape approximation of f1 -->
    <collision group="default">
      <origin rpy="0 1.57079632679 0" xyz="0.024 0 0"/>
      <geometry>
        <cylinder length="0.067" radius="0.01"/>
      </geometry>
    </collision>
    <!--   end simple shape approximation of f1 -->
    <!-- begin visual shape approximation of f1 -->
    <visual>
      <origin rpy="0 1.57079632679 0" xyz="0.024 0 0"/>
      <geometry>
        <cylinder length="0.067" radius="0.01"/>
      </geometry>
      <material name="left_sandia_hand_skin">
        <color rgba="0.835 0.655 0.345 1.0"/>
      </material>
    </visual>
    <!--   end visual shape approximation of f1 -->
    <!-- begin collision mesh of f1 ->
      <collision group="default">
        <origin xyz="0 0 0" rpy="0 0 0"/>
        <geometry>
          <mesh filename="package://sandia_hand_description/meshes/f1.stl"/>
        </geometry>
      </collision>
      <!-   end collision mesh of f1 -->
    <!-- begin visual mesh of f1 ->
      <visual>
        <origin xyz="0 0 0" rpy="0 0 0"/>
        <geometry>
          <mesh filename="package://sandia_hand_description/meshes/f1.stl"/>
        </geometry>
        <material name="${side}_sandia_hand_skin">
          <color rgba="0.835 0.655 0.345 1.0"/>
        </material>
      </visual>
      <!-   end visual mesh of f1 -->
  </link>
  <link name="left_f3_1_accel">
    <origin rpy="0 0 0" xyz="0 0 0"/>
    <inertial>
      <mass value="0.01"/>
      <origin xyz="0 0 0"/>
      <inertia ixx="0.000001" ixy="0" ixz="0" iyy="0.000001" iyz="0" izz="0.000001"/>
    </inertial>
  </link>
  <link name="left_f3_2">
    <origin rpy="0 0 0" xyz="0 0 0"/>
    <inertial>
      <mass value="0.033"/>
      <!-- F3 -->
      <origin xyz="0 0 0"/>
      <!-- solid cylinder -->
      <inertia ixx="0.0000013365" ixy="0" ixz="0" iyy="0.000009603" iyz="0" izz="0.000009603"/>
    </inertial>
    <!-- begin simple shape approximation of f2 -->
    <collision group="default">
      <origin rpy="0 1.57079632679 0" xyz="0.024 0 0"/>
      <geometry>
        <cylinder length="0.057" radius="0.009"/>
      </geometry>
    </collision>
    <collision group="other">
      <origin rpy="0 0 0" xyz="0.052 0 0"/>
      <geometry>
        <sphere radius="0.009"/>
      </geometry>
    </collision>
    <!--   end simple shape approximation of f2 -->
    <!-- begin visual shape approximation of f2 -->
    <visual>
      <origin rpy="0 1.57079632679 0" xyz="0.024 0 0"/>
      <geometry>
        <cylinder length="0.057" radius="0.009"/>
      </geometry>
      <material name="left_sandia_hand_skin_suntan">
        <color rgba="0.8 0.6 0.3 1.0"/>
      </material>
    </visual>
    <visual>
      <origin rpy="0 0 0" xyz="0.052 0 0"/>
      <geometry>
        <sphere radius="0.009"/>
      </geometry>
      <material name="left_sandia_hand_skin_suntan">
        <color rgba="0.8 0.6 0.3 1.0"/>
      </material>
    </visual>
    <!-- begin collision mesh of f2    ->
      <collision group="default">
        <origin xyz="0 0 0" rpy="0 0 0"/>
        <geometry>
          <mesh filename="package://sandia_hand_description/meshes/f2.stl"/>
        </geometry>
      </collision>
      <!-   end collision mesh of f2 -->
    <!-- begin visual mesh of f2    ->
      <visual>
        <origin xyz="0 0 0" rpy="0 0 0"/>
        <geometry>
          <mesh filename="package://sandia_hand_description/meshes/f2.stl"/>
        </geometry>
        <material name="${side}_sandia_hand_skin_suntan">
          <color rgba="0.8 0.6 0.3 1.0"/>
        </material>
      </visual>
      <!-   end visual mesh of f2 -->
  </link>
  <link name="left_f3_2_accel">
    <origin rpy="0 0 0" xyz="0 0 0"/>
    <inertial>
      <mass value="0.01"/>
      <origin xyz="0 0 0"/>
      <inertia ixx="0.000001" ixy="0" ixz="0" iyy="0.000001" iyz="0" izz="0.000001"/>
    </inertial>
  </link>
  <joint name="left_f3_base" type="fixed">
    <parent link="left_palm"/>
    <child link="left_f3_base"/>
    <origin rpy="0 -1.57079632679 2.3562" xyz="0.03995 0.04383 0.014"/>
  </joint>
  <joint name="left_f3_j0" type="revolute">
    <axis xyz="0 0 -1"/>
    <parent link="left_f3_base"/>
    <child link="left_f3_0"/>
    <limit effort="11" lower="-1.57079632679" upper="1.57079632679" velocity="24"/>
    <safety_controller k_position="1000.0" k_velocity="1000.0" soft_lower_limit="-11.57079" soft_upper_limit="11.57079"/>
    <dynamics damping="1.0"/>
    <origin rpy="0 0 0" xyz="0 0 0"/>
  </joint>
  <joint name="left_f3_j1" type="revolute">
    <axis xyz="0 0 1"/>
    <parent link="left_f3_0"/>
    <child link="left_f3_1"/>
    <limit effort="28" lower="-1.57079632679" upper="1.57079632679" velocity="24"/>
    <safety_controller k_position="1000.0" k_velocity="1000.0" soft_lower_limit="-11.57079" soft_upper_limit="11.57079"/>
    <dynamics damping="1.0"/>
    <origin rpy="1.57079632679 0 0" xyz="0.028 0 0"/>
  </joint>
  <joint name="left_f3_j2" type="revolute">
    <axis xyz="0 0 1"/>
    <parent link="left_f3_1"/>
    <child link="left_f3_2"/>
    <origin rpy="0 0 0" xyz="0.05 0 0"/>
    <safety_controller k_position="1000.0" k_velocity="1000.0" soft_lower_limit="-11.57079" soft_upper_limit="11.57079"/>
    <dynamics damping="1.0"/>
    <limit effort="28" lower="-1.57079632679" upper="1.57079632679" velocity="24"/>
  </joint>
  <joint name="left_f3_fixed_accel" type="fixed">
    <parent link="left_f3_base"/>
    <child link="left_f3_fixed_accel"/>
    <origin rpy="0 0 0" xyz="-0.05 0 0"/>
  </joint>
  <joint name="left_f3_1_accel" type="fixed">
    <parent link="left_f3_1"/>
    <child link="left_f3_1_accel"/>
    <origin rpy="-1.57079632679 0 0" xyz="0.03 0 0"/>
  </joint>
  <joint name="left_f3_2_accel" type="fixed">
    <parent link="left_f3_2"/>
    <child link="left_f3_2_accel"/>
    <origin rpy="-1.57079632679 0 0" xyz="0.04 0 0"/>
  </joint>
  <transmission name="left_f3_j0" type="pr2_mechanism_model/SimpleTransmission">
    <joint name="left_f3_j0"/>
    <actuator name="left_f3_j0_motor"/>
    <mechanicalReduction>1</mechanicalReduction>
  </transmission>
  <transmission name="left_f3_j1" type="pr2_mechanism_model/SimpleTransmission">
    <joint name="left_f3_j1"/>
    <actuator name="left_f3_j1_motor"/>
    <mechanicalReduction>1</mechanicalReduction>
  </transmission>
  <transmission name="left_f3_j2" type="pr2_mechanism_model/SimpleTransmission">
    <joint name="left_f3_j2"/>
    <actuator name="left_f3_j2_motor"/>
    <mechanicalReduction>1</mechanicalReduction>
  </transmission>
  <gazebo reference="left_f3_base">
    <mu1>1.1</mu1>
    <mu2>1.1</mu2>
    <kp>1000000.0</kp>
    <kd>10.0</kd>
    <maxVel>0.1</maxVel>
    <minDepth>0.00</minDepth>
    <maxContacts>1</maxContacts>
    <material>Gazebo/FlatBlack</material>
  </gazebo>
  <gazebo reference="left_f3_0">
    <mu1>1.1</mu1>
    <mu2>1.1</mu2>
    <kp>1000000.0</kp>
    <kd>10.0</kd>
    <maxVel>0.1</maxVel>
    <minDepth>0.00</minDepth>
    <maxContacts>1</maxContacts>
    <material>Gazebo/FlatBlack</material>
  </gazebo>
  <gazebo reference="left_f3_1">
    <mu1>1.1</mu1>
    <mu2>1.1</mu2>
    <kp>1000000.0</kp>
    <kd>10.0</kd>
    <maxVel>0.1</maxVel>
    <minDepth>0.00</minDepth>
    <maxContacts>1</maxContacts>
    <material>Gazebo/FlatBlack</material>
  </gazebo>
  <gazebo reference="left_f3_2">
    <mu1>1.1</mu1>
    <mu2>1.1</mu2>
    <kp>1000000.0</kp>
    <kd>10.0</kd>
    <maxVel>0.1</maxVel>
    <minDepth>0.00</minDepth>
    <maxContacts>1</maxContacts>
    <material>Gazebo/FlatBlack</material>
  </gazebo>
  <gazebo reference="left_f3_j0">
    <cfmDamping>1</cfmDamping>
  </gazebo>
  <gazebo reference="left_f3_j1">
    <cfmDamping>1</cfmDamping>
  </gazebo>
  <gazebo reference="left_f3_j2">
    <cfmDamping>1</cfmDamping>
  </gazebo>
  <gazebo reference="left_palm">
    <mu1>1.1</mu1>
    <mu2>1.1</mu2>
    <kp>1000000.0</kp>
    <kd>1.0</kd>
    <maxVel>0.1</maxVel>
    <minDepth>0.00</minDepth>
    <maxContacts>6</maxContacts>
    <material>Gazebo/FlatBlack</material>
  </gazebo>
  <joint name="left_palm_left_camera_frame_joint" type="fixed">
    <origin rpy="-0.6708 -1.57079632679 3.14159265359" xyz="0.0435128991906 -0.0451672761576 0.025"/>
    <parent link="left_palm"/>
    <child link="left_palm_left_camera_frame"/>
  </joint>
  <link name="left_palm_left_camera_frame">
    <inertial>
      <mass value="0.01"/>
      <origin xyz="0 0 0"/>
      <inertia ixx="0.0001" ixy="0.0" ixz="0.0" iyy="0.0001" iyz="0.0" izz="0.0001"/>
    </inertial>
    <visual group="default">
      <origin rpy="0 0 0" xyz="0 0 0"/>
      <geometry>
        <box size="0.003 0.010 0.007"/>
      </geometry>
    </visual>
  </link>
  <joint name="left_palm_left_camera_optical_frame_joint" type="fixed">
    <origin rpy="-1.57079632679 0.0 -1.57079632679" xyz="0 0 0"/>
    <parent link="left_palm_left_camera_frame"/>
    <child link="left_palm_left_camera_optical_frame"/>
  </joint>
  <link name="left_palm_left_camera_optical_frame"/>
  <gazebo reference="left_palm_left_camera_frame">
    <sensor name="left_palm_stereo_camera" type="multicamera">
      <update_rate>30.0</update_rate>
      <camera name="left">
        <horizontal_fov>1.25663706144</horizontal_fov>
        <image>
          <width>752</width>
          <height>480</height>
          <format>L8</format>
        </image>
        <clip>
          <near>0.02</near>
          <far>100</far>
        </clip>
        <noise>
          <type>gaussian</type>
          <mean>0.0</mean>
          <stddev>0.007</stddev>
        </noise>
      </camera>
      <camera name="right">
        <pose>0 -0.04 0  0 0 0</pose>
        <horizontal_fov>1.25663706144</horizontal_fov>
        <image>
          <width>752</width>
          <height>480</height>
          <format>L8</format>
        </image>
        <clip>
          <near>0.02</near>
          <far>100</far>
        </clip>
        <noise>
          <type>gaussian</type>
          <mean>0.0</mean>
          <stddev>0.007</stddev>
        </noise>
      </camera>
      <plugin filename="libgazebo_ros_multicamera.so" name="stereo_camera_controller">
        <alwaysOn>true</alwaysOn>
        <updateRate>0.0</updateRate>
        <cameraName>sandia_hands/l_hand/camera</cameraName>
        <imageTopicName>image_raw</imageTopicName>
        <cameraInfoTopicName>camera_info</cameraInfoTopicName>
        <frameName>left_palm_left_camera_optical_frame</frameName>
        <hackBaseline>0.04</hackBaseline>
        <distortionK1>0.0</distortionK1>
        <distortionK2>0.0</distortionK2>
        <distortionK3>0.0</distortionK3>
        <distortionT1>0.0</distortionT1>
        <distortionT2>0.0</distortionT2>
      </plugin>
    </sensor>
  </gazebo>
  <joint name="left_palm_right_camera_frame_joint" type="fixed">
    <origin rpy="-0.6708 -1.57079632679 3.14159265359" xyz="0.0683774130138 -0.0138342911048 0.025"/>
    <parent link="left_palm"/>
    <child link="left_palm_right_camera_frame"/>
  </joint>
  <link name="left_palm_right_camera_frame">
    <inertial>
      <mass value="0.01"/>
      <origin xyz="0 0 0"/>
      <inertia ixx="0.0001" ixy="0.0" ixz="0.0" iyy="0.0001" iyz="0.0" izz="0.0001"/>
    </inertial>
    <visual group="default">
      <origin rpy="0 0 0" xyz="0 0 0"/>
      <geometry>
        <box size="0.003 0.010 0.007"/>
      </geometry>
    </visual>
  </link>
  <joint name="left_palm_right_camera_optical_frame_joint" type="fixed">
    <origin rpy="-1.57079632679 0.0 -1.57079632679" xyz="0 0 0"/>
    <parent link="left_palm_right_camera_frame"/>
    <child link="left_palm_right_camera_optical_frame"/>
  </joint>
  <link name="left_palm_right_camera_optical_frame"/>

</robot>
